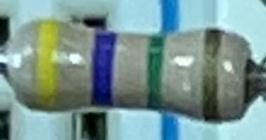Blue: (87, 30, 122, 108)
Green: (142, 33, 170, 111)
Side-Silver: (198, 30, 226, 122)
Yellow: (32, 20, 64, 113)
